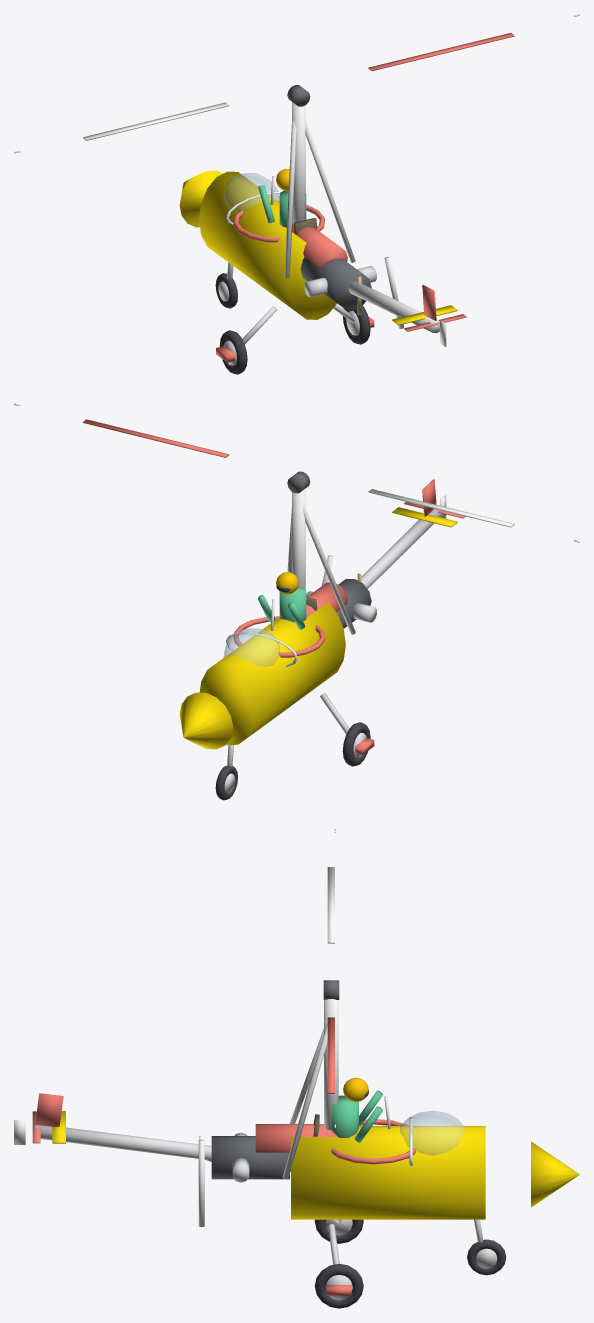
The model's file is gyrocopter.glb.
The picture shows the model from 3 angles, top to bottom: view 1: azimuth 30°, elevation 25°; view 2: azimuth 150°, elevation 25°; view 3: azimuth 270°, elevation 25°; orthographic projection. The views are drawn at different scales.
Visible parts, largest first — view 1: gyro_body, rotor_mesh; view 2: gyro_body, rotor_mesh; view 3: gyro_body, rotor_mesh.
Boxes of the visible parts, <box> form: gyro_body: <box>179,102,466,374</box>; rotor_mesh: <box>14,14,579,153</box>; gyro_body: <box>179,479,465,800</box>; rotor_mesh: <box>14,403,579,542</box>; gyro_body: <box>14,999,579,1308</box>; rotor_mesh: <box>323,829,339,1127</box>.
Bounding box in the file's own units: 7.17 × 3.34 × 5.76.
